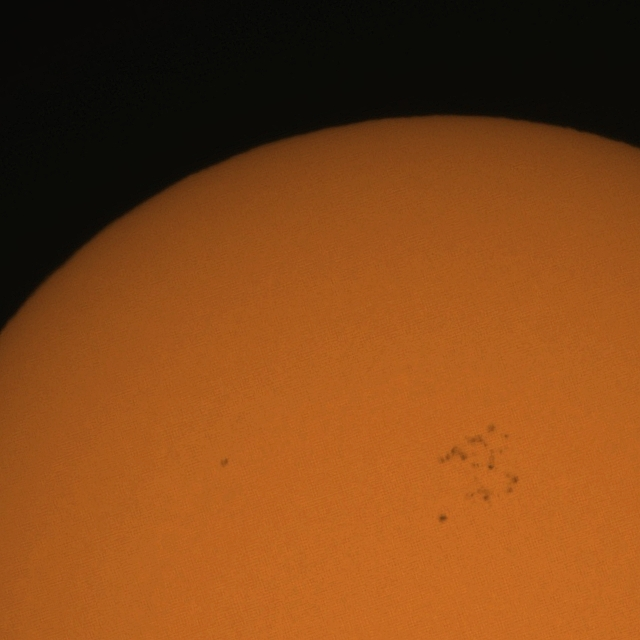sunspot: (440, 426, 513, 474), (503, 471, 520, 494), (219, 457, 230, 468)
